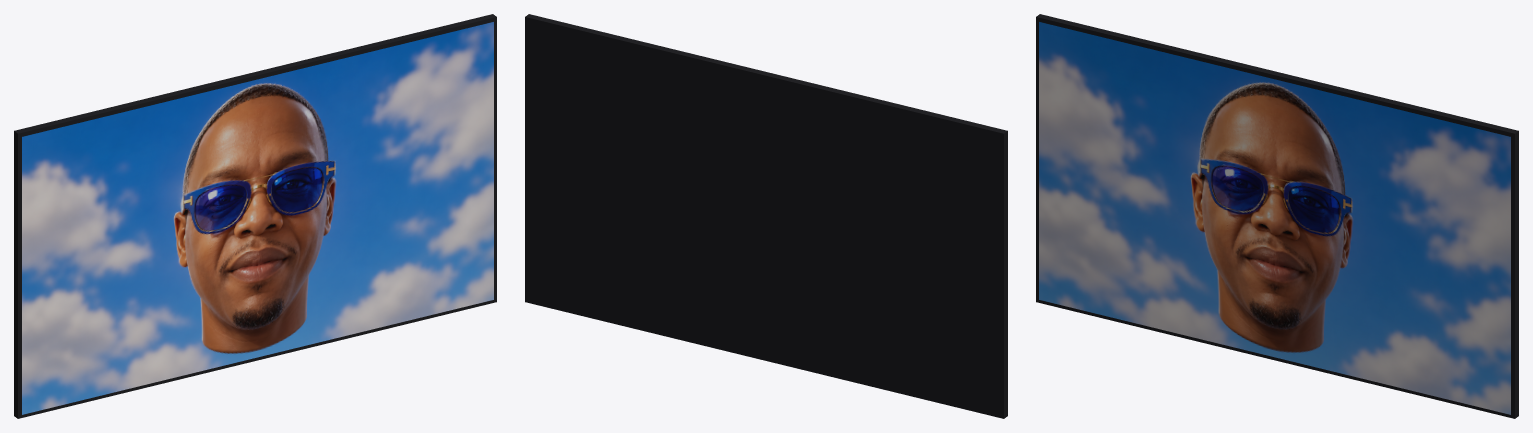
Rendered from casey_exact_image_3d_card.glb.
3 renders of one model, left to right at view 1: azimuth 30°, elevation 25°; view 2: azimuth 150°, elevation 25°; view 3: azimuth 330°, elevation 25°, orthographic.
Parts seen in each view (by area): view 1: exact supplied portrait 3D surface, thin 3D backing; view 2: thin 3D backing; view 3: exact supplied portrait 3D surface, thin 3D backing.
Boxes of the visible parts, x1,y1,x2,y2 form: exact supplied portrait 3D surface: [22, 22, 493, 414]; thin 3D backing: [14, 14, 496, 418]; thin 3D backing: [525, 14, 1007, 418]; exact supplied portrait 3D surface: [1039, 22, 1510, 414]; thin 3D backing: [1036, 14, 1518, 418].
Size of the model in its own units: 4.87 by 2.77 by 0.08.
Materials: 2 (1 with a texture image).
